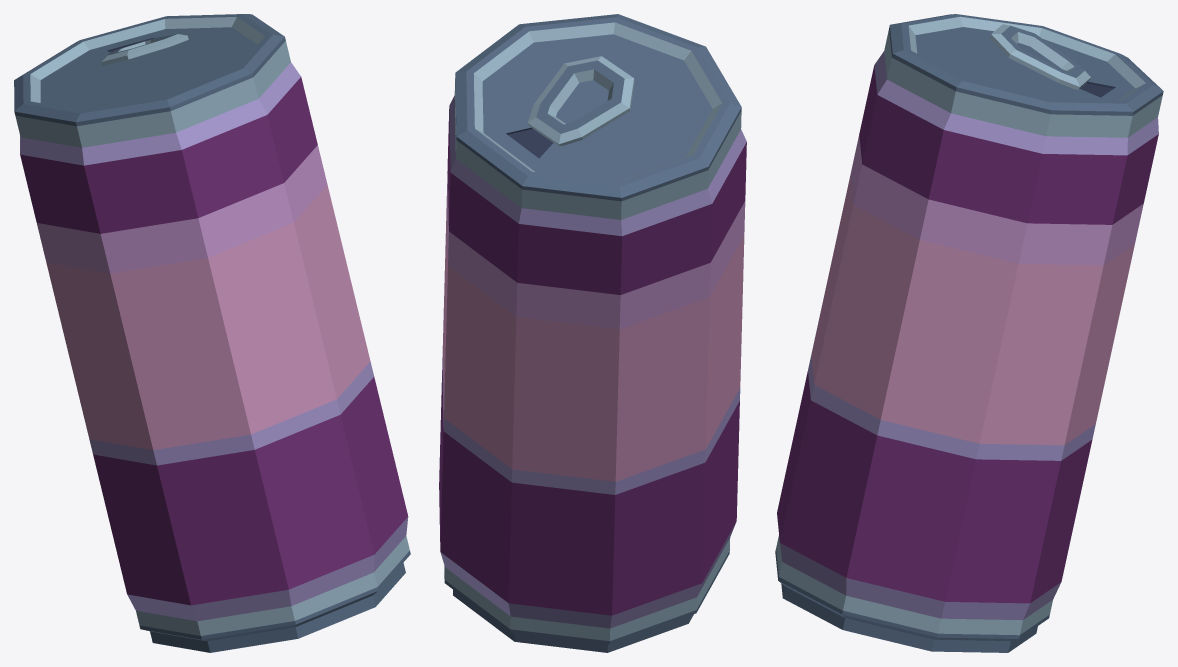
Rendered from DrSwerve.Minus.fbx.
The picture shows the model from 3 angles, left to right: view 1: azimuth 30°, elevation 25°; view 2: azimuth 150°, elevation 25°; view 3: azimuth 270°, elevation 25°; orthographic projection. The views are drawn at different scales.
Parts seen in each view (by area): view 1: DrSwerve.Minus; view 2: DrSwerve.Minus; view 3: DrSwerve.Minus.
Boxes of the visible parts, x1,y1,x2,y2 form: DrSwerve.Minus: [14, 14, 410, 652]; DrSwerve.Minus: [439, 14, 746, 652]; DrSwerve.Minus: [775, 14, 1163, 652].
Size of the model in its own units: 39.96 by 70.37 by 43.16.
